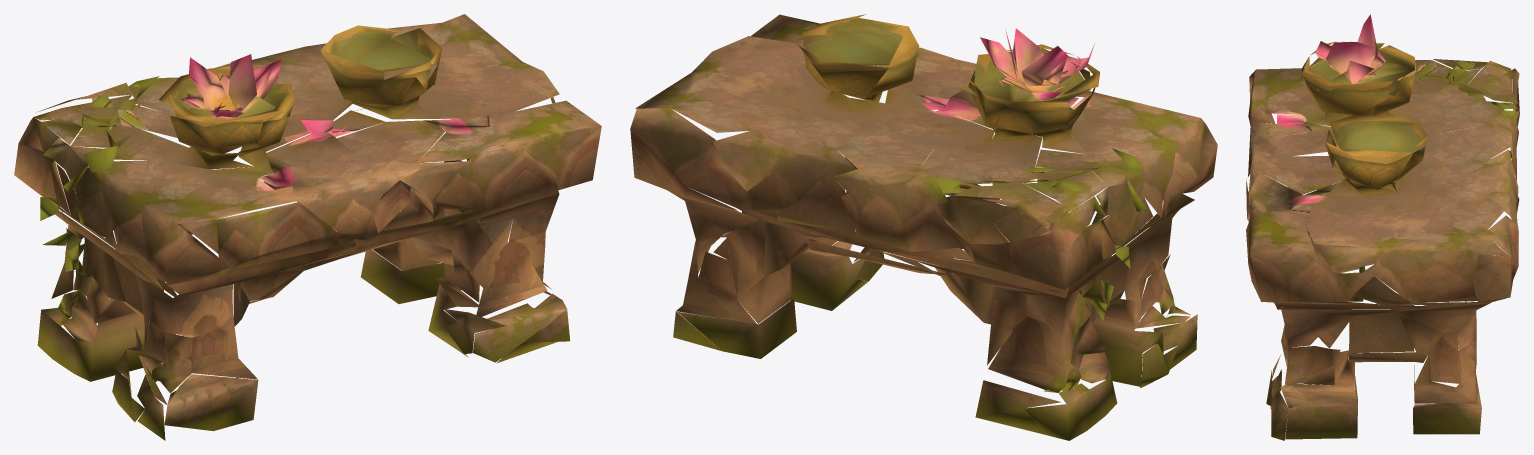
Rendered from p_altar.glb.
3 renders of one model, left to right at view 1: azimuth 30°, elevation 25°; view 2: azimuth 150°, elevation 25°; view 3: azimuth 270°, elevation 25°, orthographic. The views are drawn at different scales.
Parts seen in each view (by area): view 1: tripo_node_a9b68764-d2f8-4578-b6d1-607b457f0f86; view 2: tripo_node_a9b68764-d2f8-4578-b6d1-607b457f0f86; view 3: tripo_node_a9b68764-d2f8-4578-b6d1-607b457f0f86.
Part boxes in pixels (<box>): tripo_node_a9b68764-d2f8-4578-b6d1-607b457f0f86: <box>14,14,601,440</box>; tripo_node_a9b68764-d2f8-4578-b6d1-607b457f0f86: <box>630,14,1217,440</box>; tripo_node_a9b68764-d2f8-4578-b6d1-607b457f0f86: <box>1246,14,1519,440</box>.
Size of the model in its own units: 1.48 by 0.9973 by 0.8612.
1 material, 1 textured.
